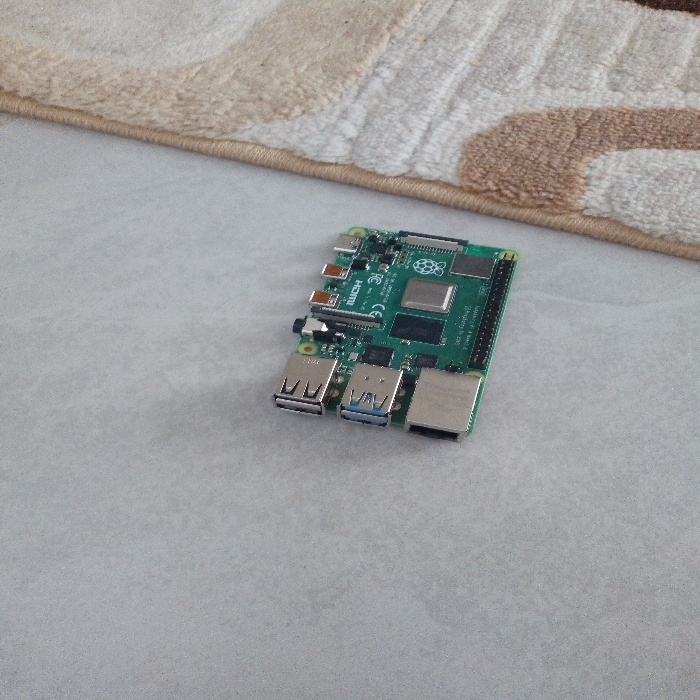raspberry: (258, 222, 542, 443)
